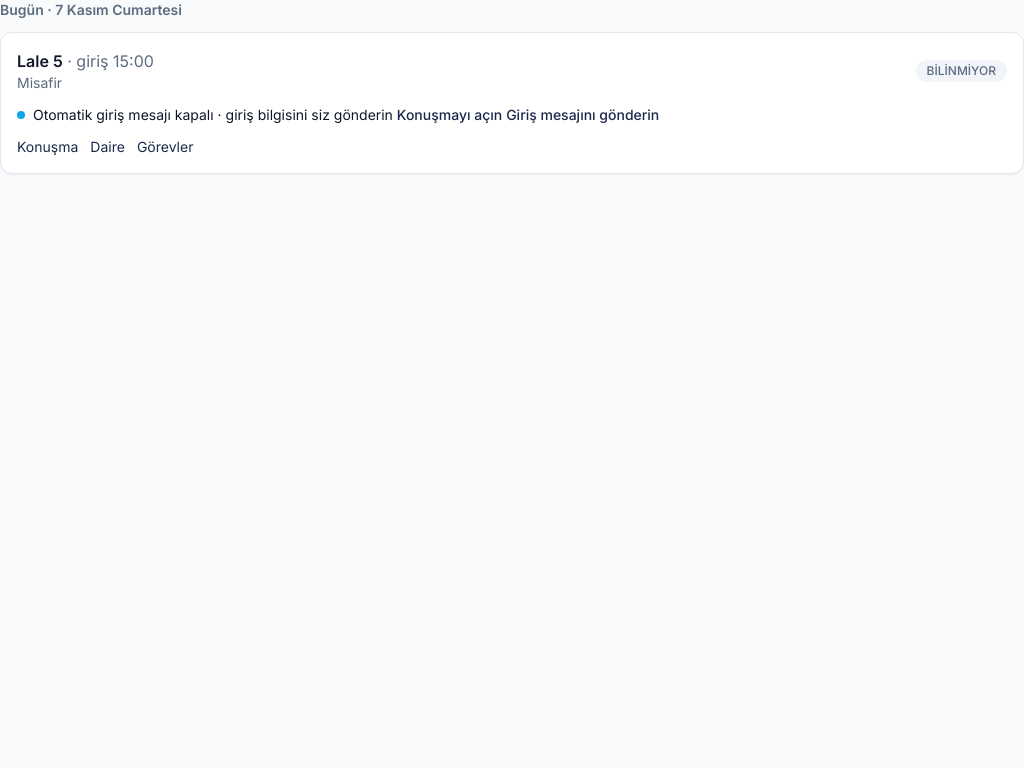
Girişler — giriş mesajını elle gönderme › 🚨 gönderim sürerken Escape pencereyi kapatmaz ve listeyi yenilemez
Step 1. Click the button "Giriş mesajını gönderin" → click(583, 115), box [506,105,659,125]
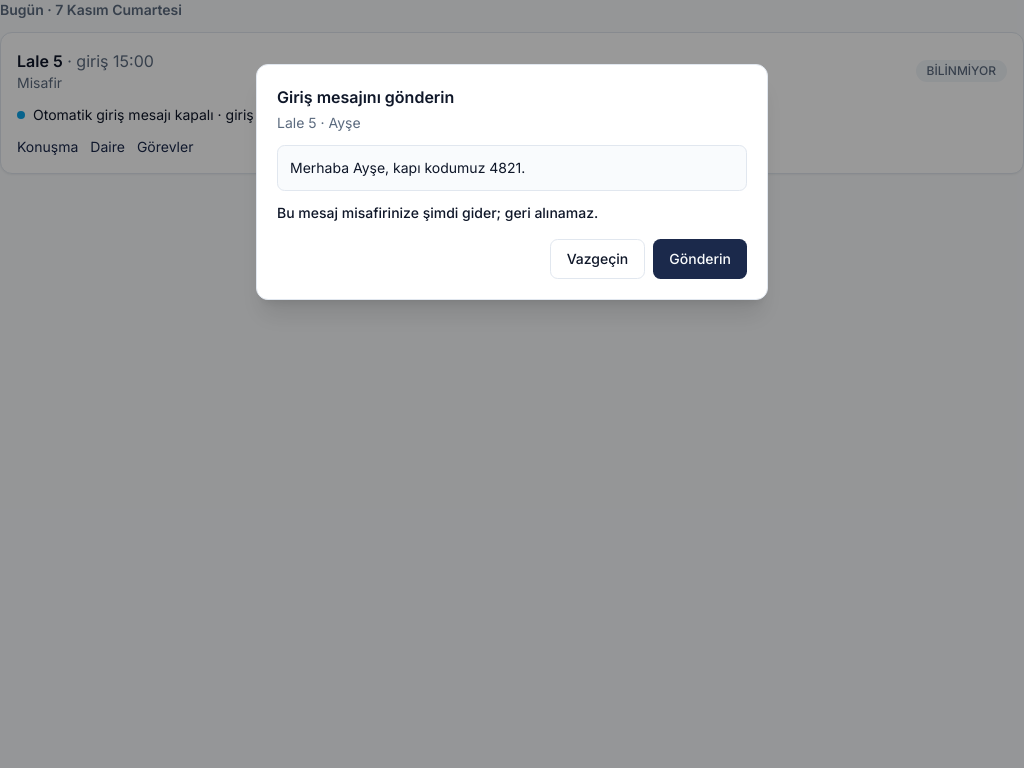
Step 2. Click the button "Gönderin" → click(700, 259), box [653,239,747,279]
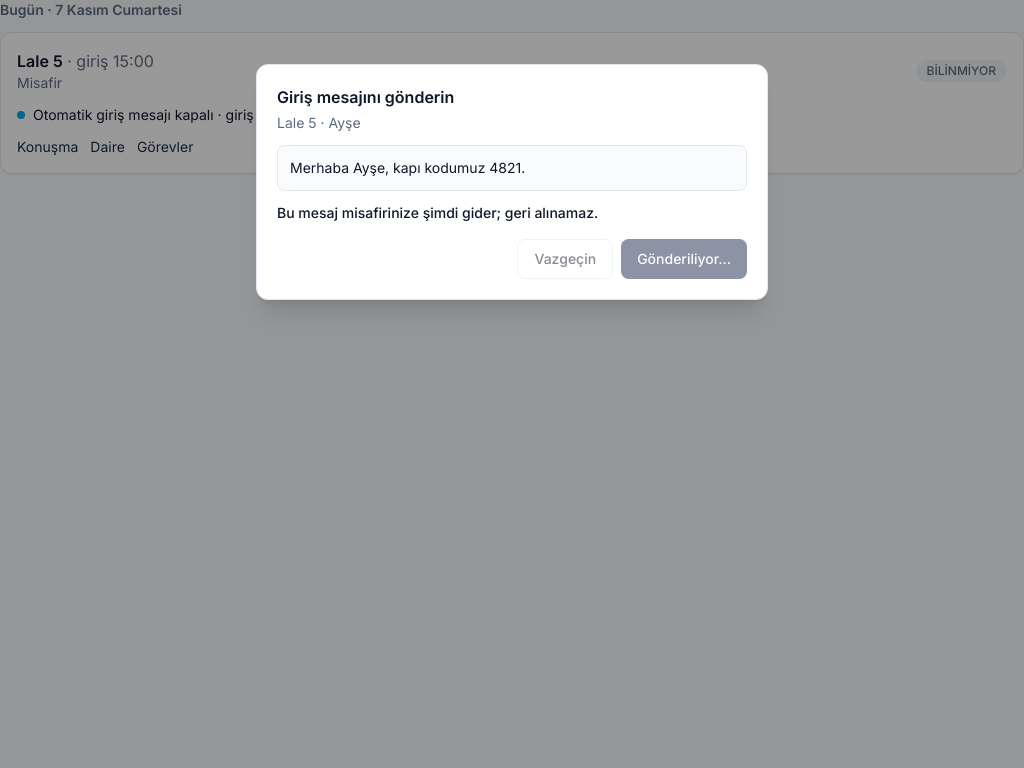
Step 3. Press Escape
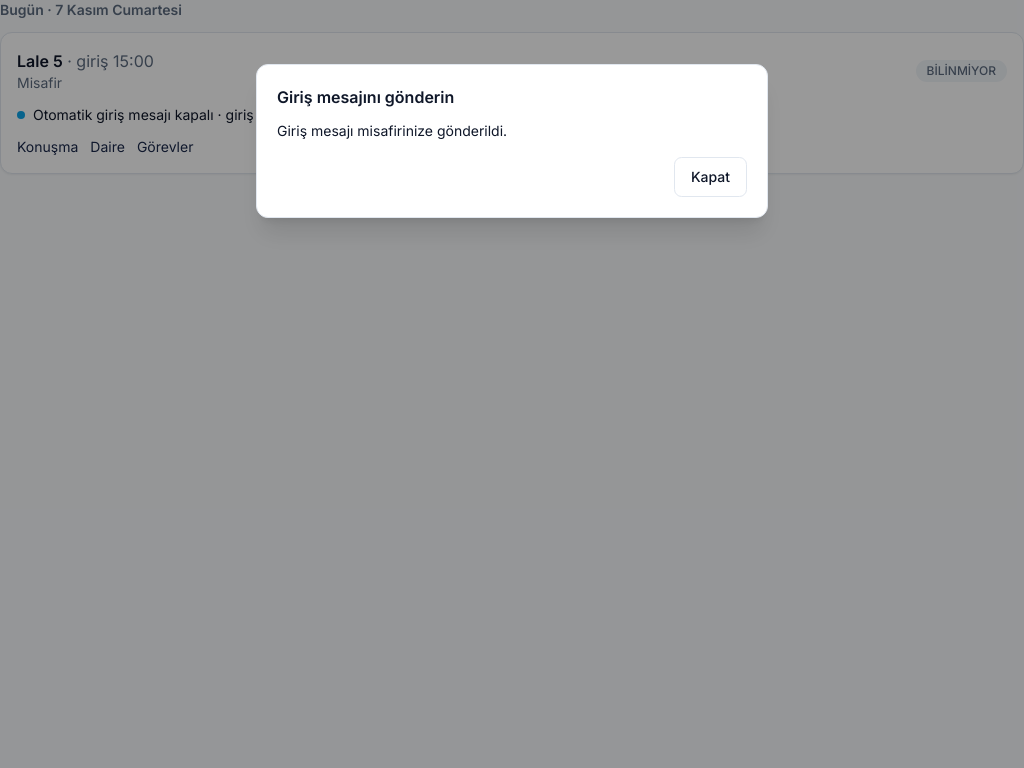
Check: the dialog is shown, box [256,64,768,218]
Check: the message reads "Giriş mesajı misafirinize gönderildi.", box [277,122,507,139]
